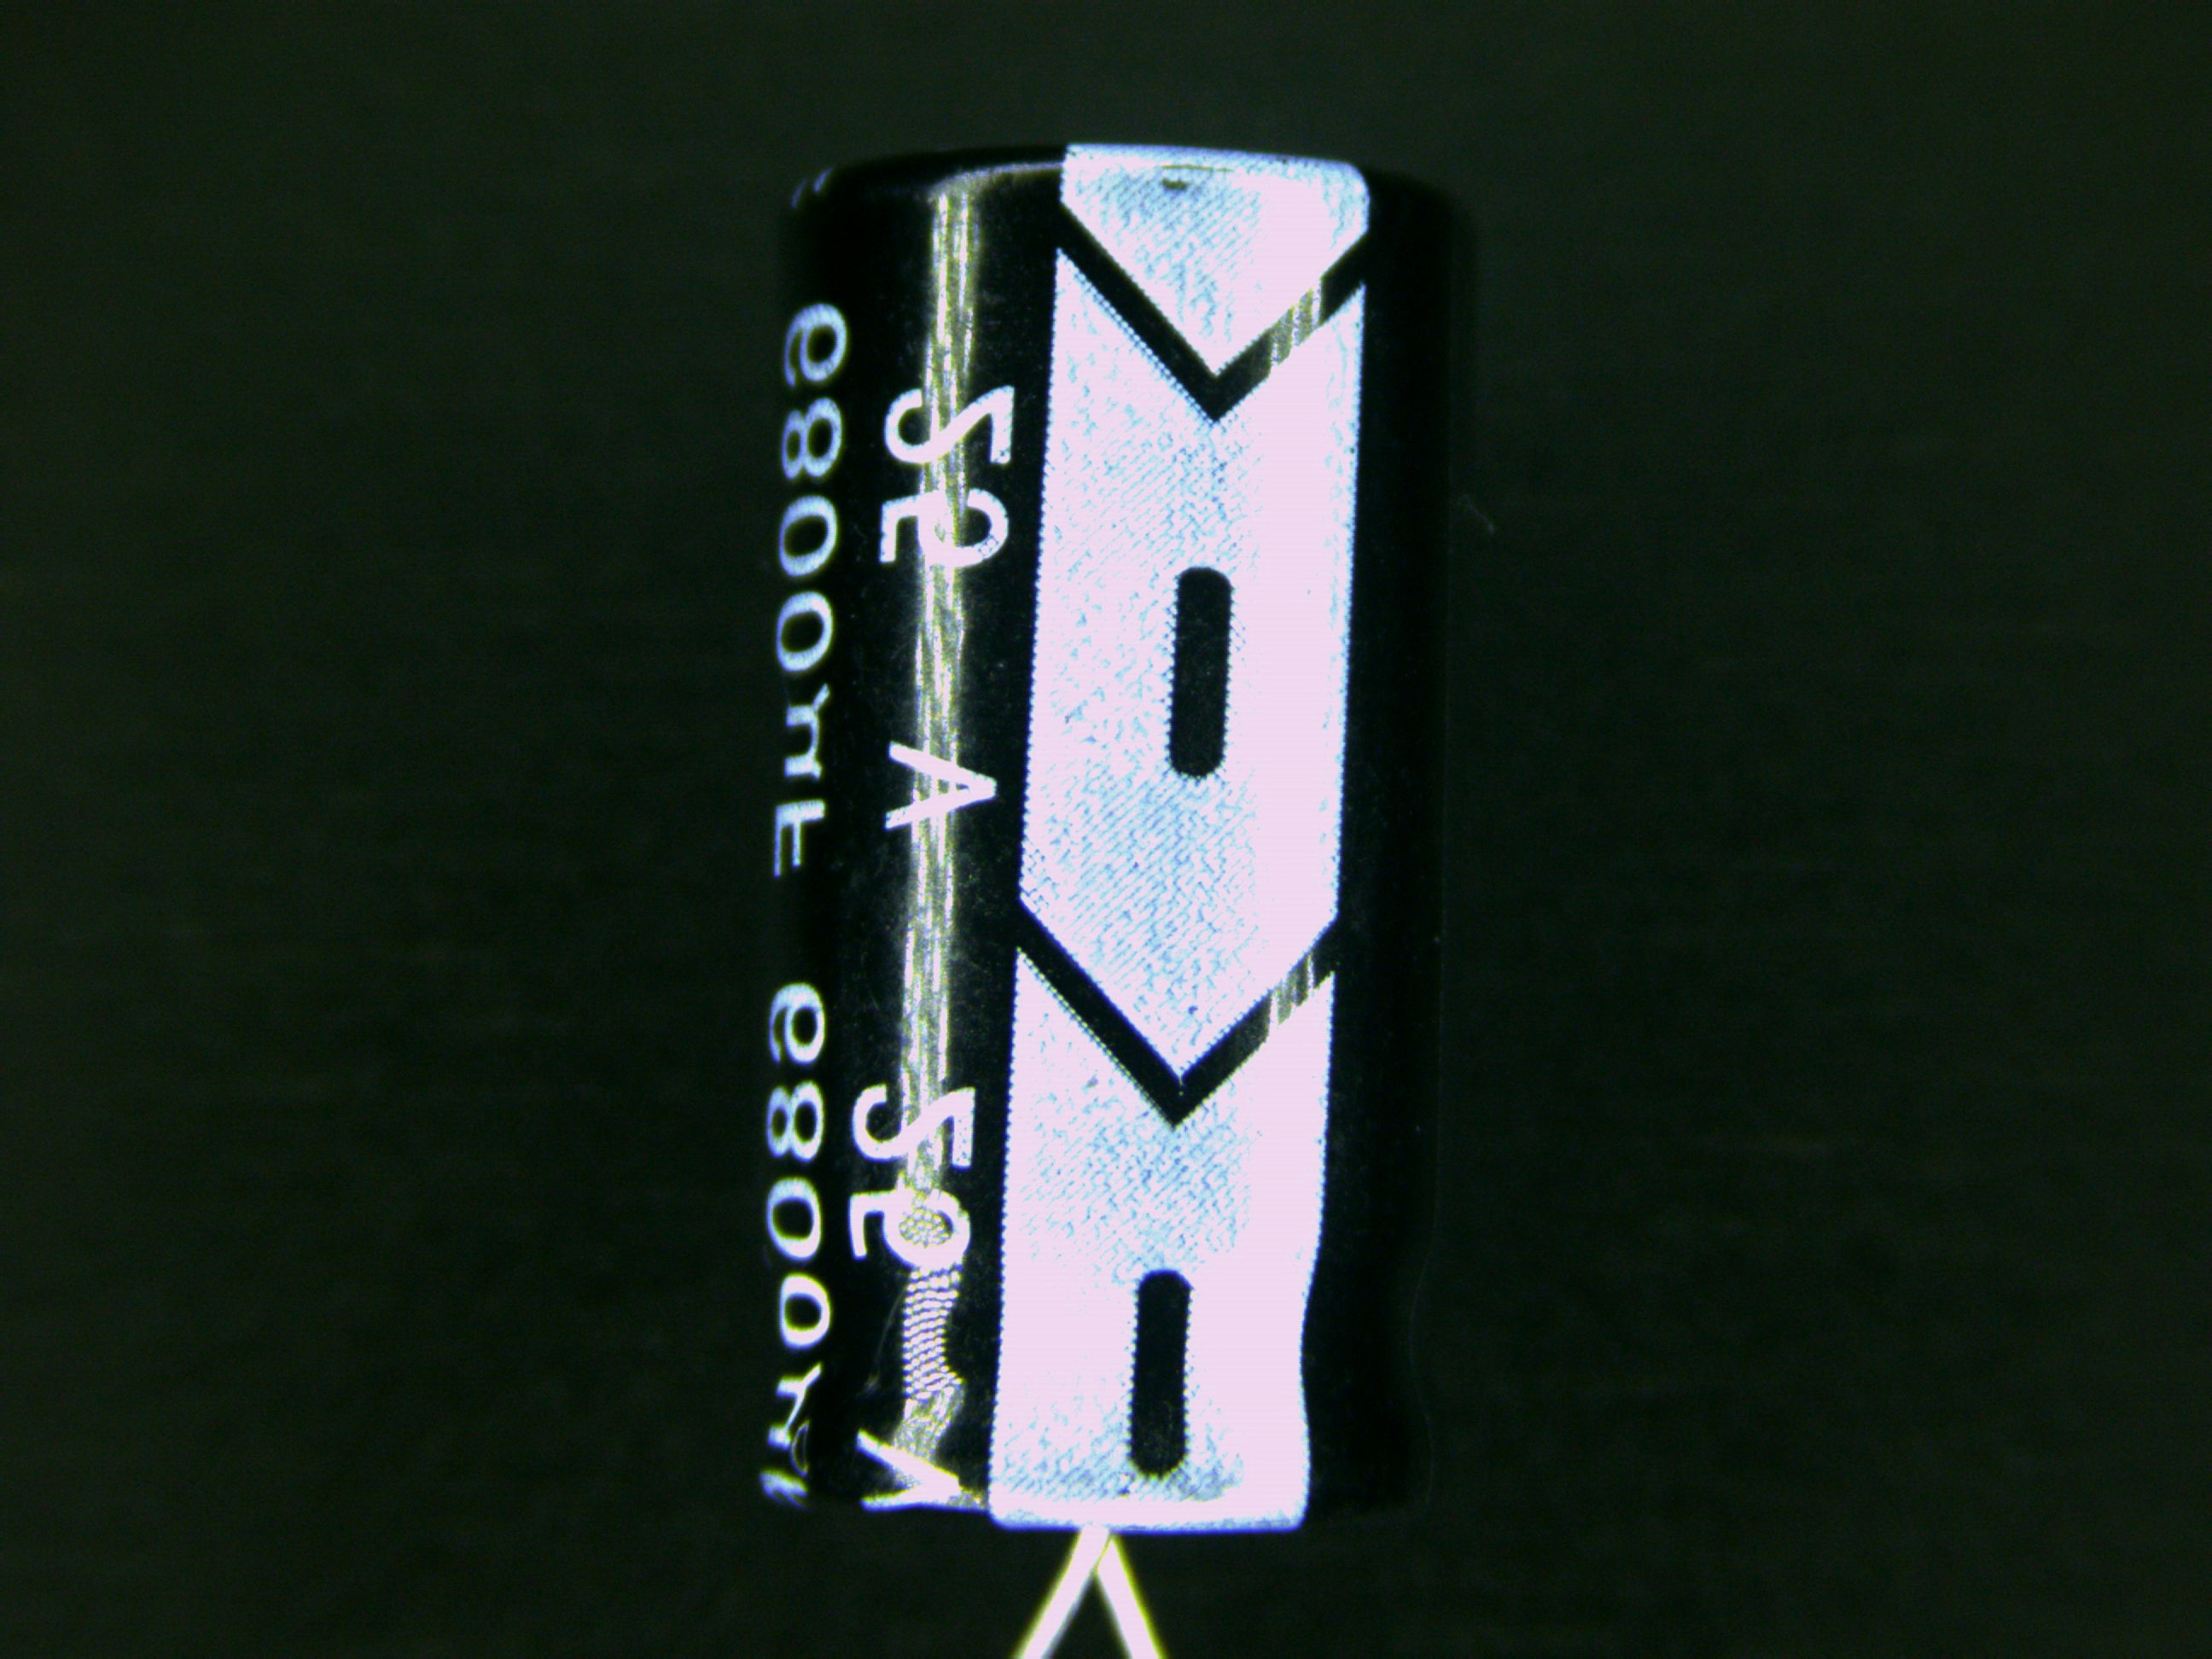c3: (745, 143, 1465, 1610)
